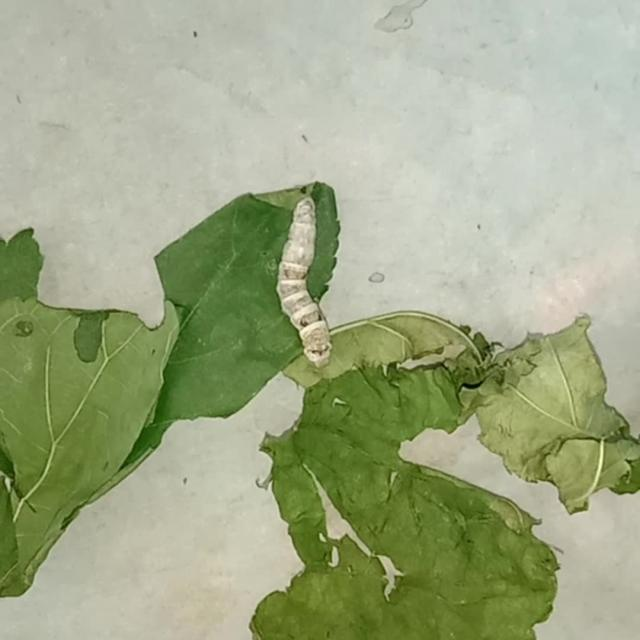Grasserie: (262, 186, 346, 376)
